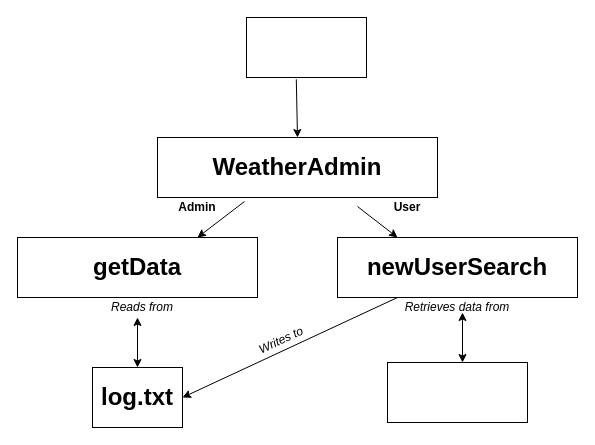
The diagram is 595 pixels wide and 445 high, and some of its shapes have lost their labels. The shapes that lost their labels are listed below. From the top down, each one's centre as x and y in pixels, then its label:
the point at 306,47: CLI
the point at 457,392: weather-js
